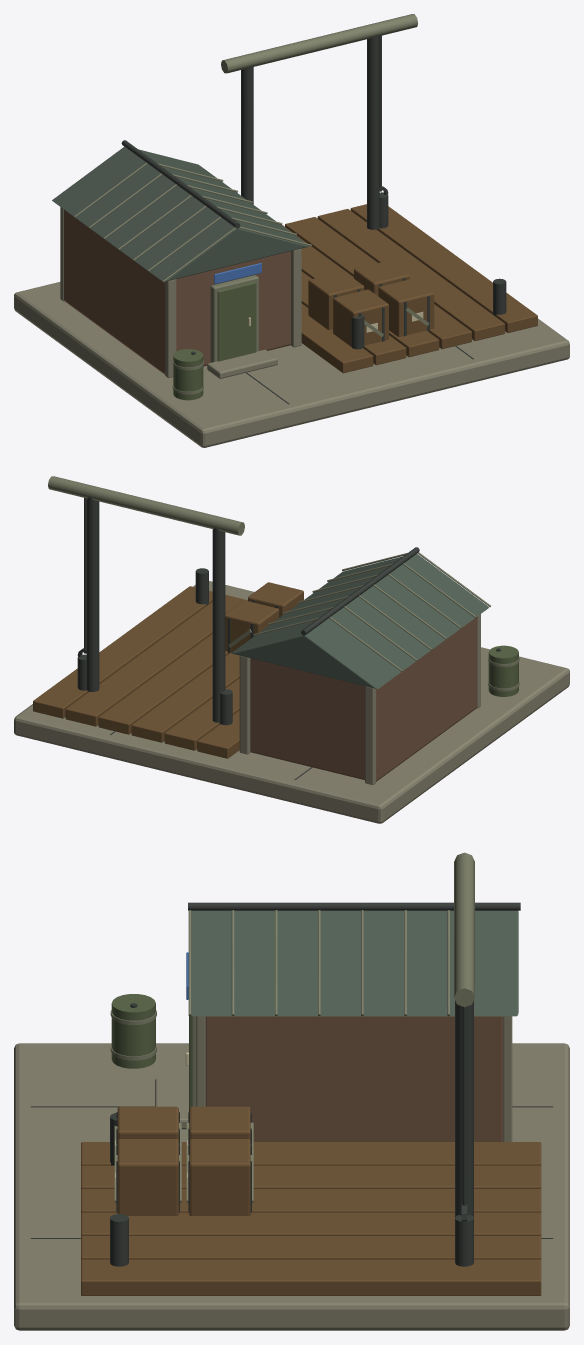
File: shippingport.glb
3 views of the same model, one above another, from view 1: azimuth 30°, elevation 25°; view 2: azimuth 150°, elevation 25°; view 3: azimuth 270°, elevation 25° (orthographic). The views are drawn at different scales.
Parts seen in each view (by area): view 1: Concrete, Timber, RoofMetal, Masonry, EdgeSteel, Steel, Armor; view 2: Concrete, Timber, Masonry, RoofMetal, Steel, EdgeSteel, Armor; view 3: Timber, Concrete, Masonry, RoofMetal, Steel, EdgeSteel, Armor.
Part boxes in pixels (x1,y1,x2,y2): Concrete: (14, 207, 569, 447); Timber: (281, 204, 537, 373); RoofMetal: (52, 146, 309, 281); Masonry: (64, 210, 290, 374); EdgeSteel: (74, 14, 429, 394); Steel: (121, 34, 506, 404); Armor: (173, 282, 256, 400); Concrete: (14, 581, 569, 823); Timber: (33, 582, 303, 758); Masonry: (250, 617, 477, 781); RoofMetal: (231, 554, 489, 688); Steel: (77, 497, 500, 779); EdgeSteel: (48, 476, 519, 691); Armor: (488, 645, 518, 696); Timber: (81, 1106, 541, 1295); Concrete: (14, 1016, 569, 1330); Masonry: (205, 1016, 502, 1141); RoofMetal: (191, 910, 518, 1016); Steel: (30, 902, 553, 1266); EdgeSteel: (110, 852, 474, 1202); Armor: (111, 994, 191, 1111).
Size of the model in its own units: 6.5 by 3.94 by 5.8.
